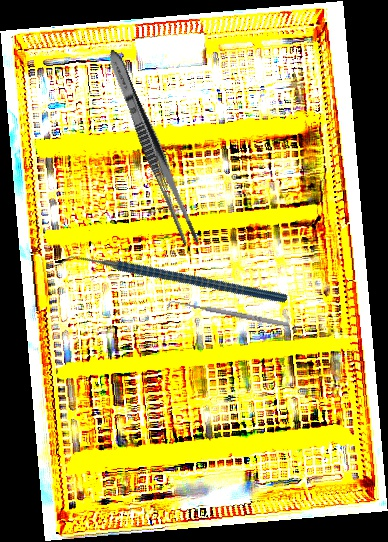Chopper: (52, 186, 289, 377)
Dressing Forceps: (101, 46, 204, 250)
Hook Surgical: (166, 297, 291, 333)
